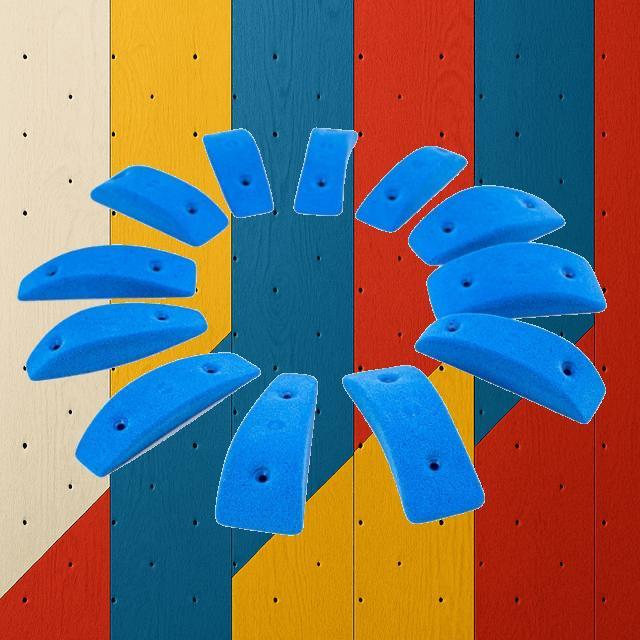Pinch: (74, 350, 260, 478), (342, 364, 484, 524), (414, 312, 606, 424), (215, 372, 318, 534), (24, 301, 208, 381), (426, 242, 606, 318), (408, 184, 564, 266), (89, 164, 229, 246), (16, 243, 196, 301), (355, 144, 467, 232), (202, 127, 274, 217), (293, 127, 357, 216)
